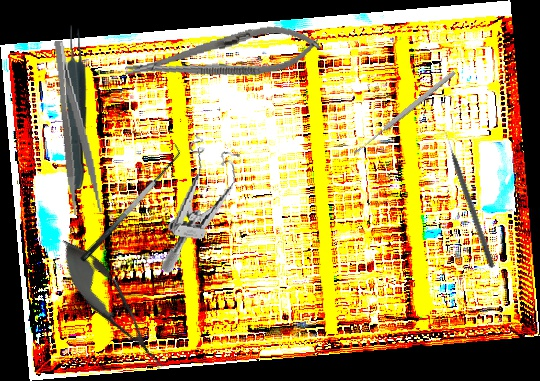Dressing Forceps: (49, 38, 104, 216)
Micro Scissor: (47, 229, 178, 381)
Needle Holder: (121, 18, 323, 94)
Pusher: (442, 129, 497, 269)
Spatula Surgical: (70, 142, 189, 264)
Speculum: (160, 129, 243, 283)
Surgical Spoon: (352, 69, 457, 156)
Tissue Forceps: (64, 24, 89, 190)
